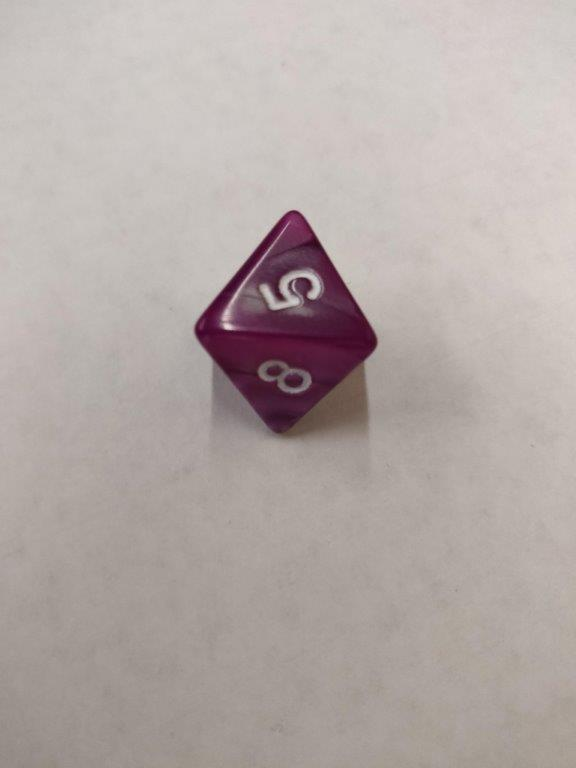d8-5: (195, 205, 379, 434)
